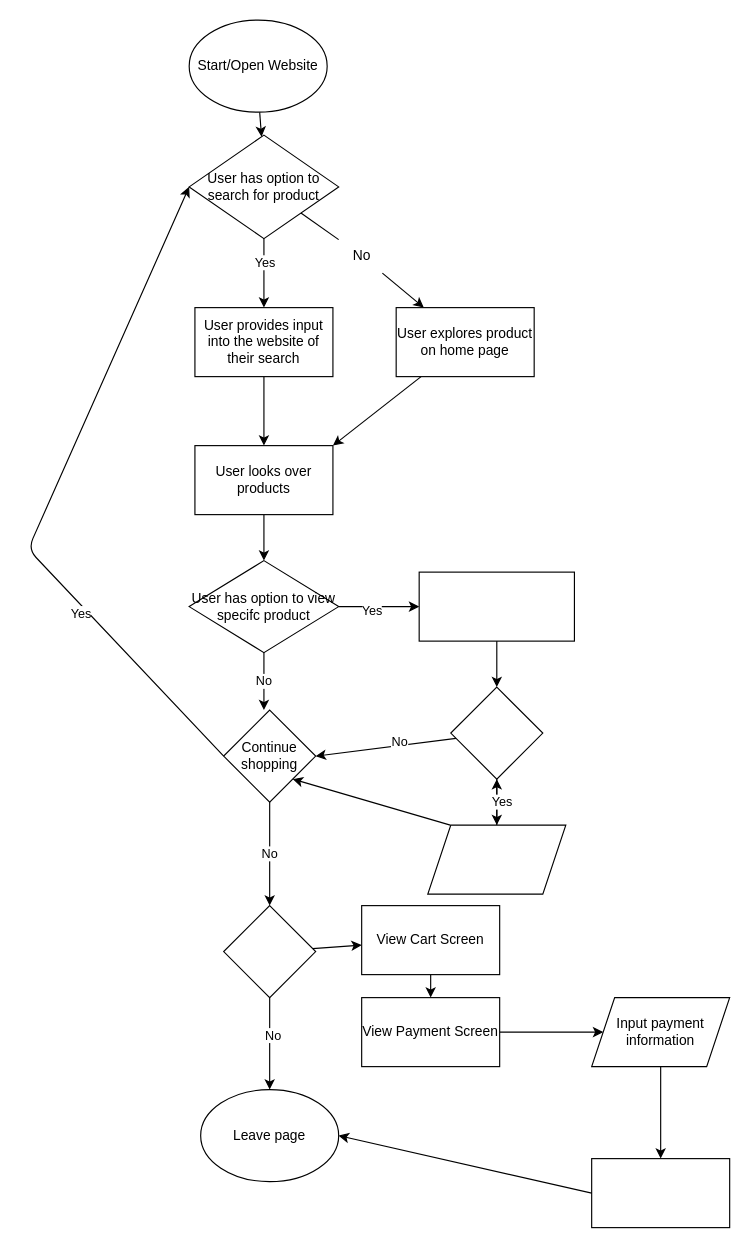
The diagram is 750 pixels wide and 1248 high, and some of its shapes have lost their labels. Each missing label, with the centre of its shape:
"Add item to cart" goes at point 496,732.
"Added to cart confirmation" goes at point 496,859.
"Choice to checkout" goes at point 269,951.
"Order Confirmation" goes at point 660,1192.
"View specifc product, product page is opened" goes at point 496,606.
